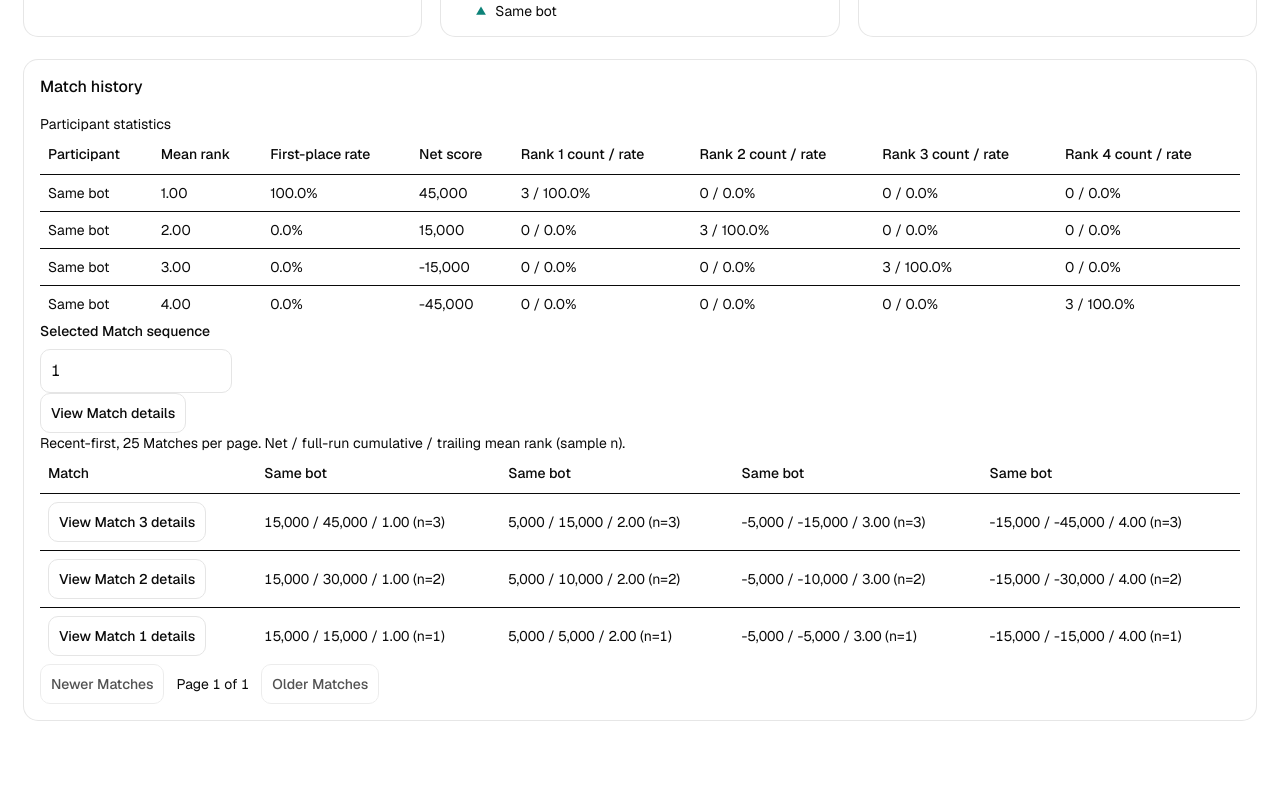
Test: derives charts from persisted evidence and opens the identified Match without unverified Replay navigation
(page scrolled)
Expected: the 2nd row shows "Same bot", 48,184 -> 110,202
Expected: the 2nd row shows "1.00", 161,184 -> 188,202
What coordinates should you click on to do the following:
click the button "View Match 2 details"
I would click on:
 (127, 579)
Its box is 48,559 -> 206,599.
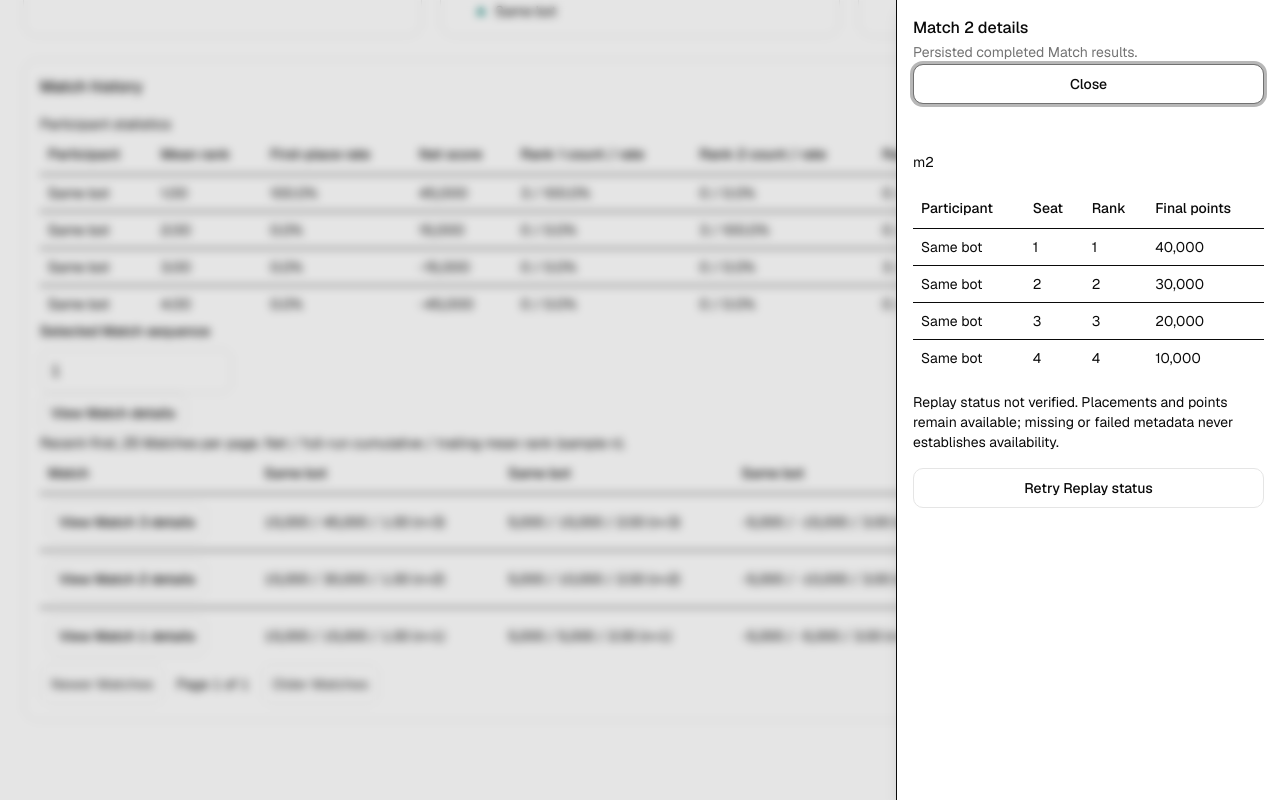
Result: the dialog shows "m2" at 913,153 -> 934,171
